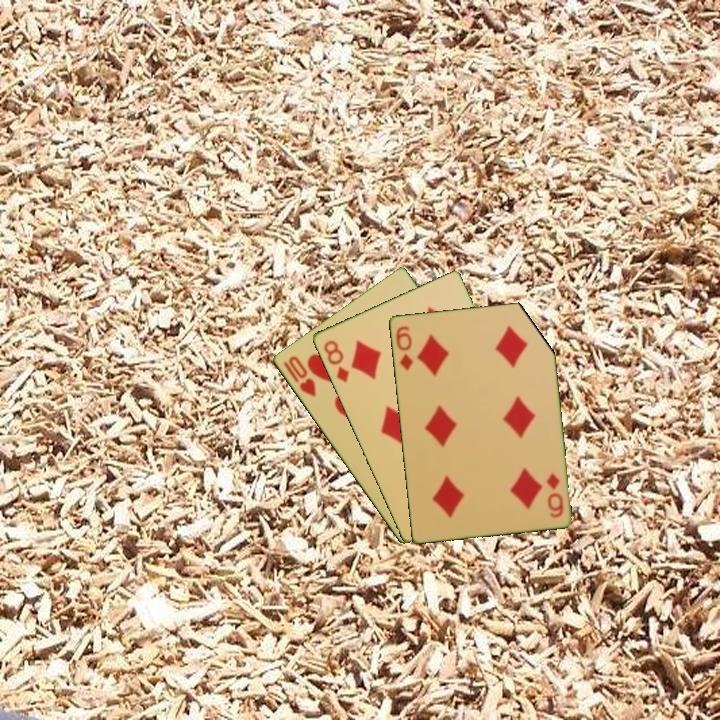10h: (284, 352, 319, 400)
6d: (392, 322, 415, 373), (543, 469, 566, 520)
8d: (320, 337, 352, 385)
